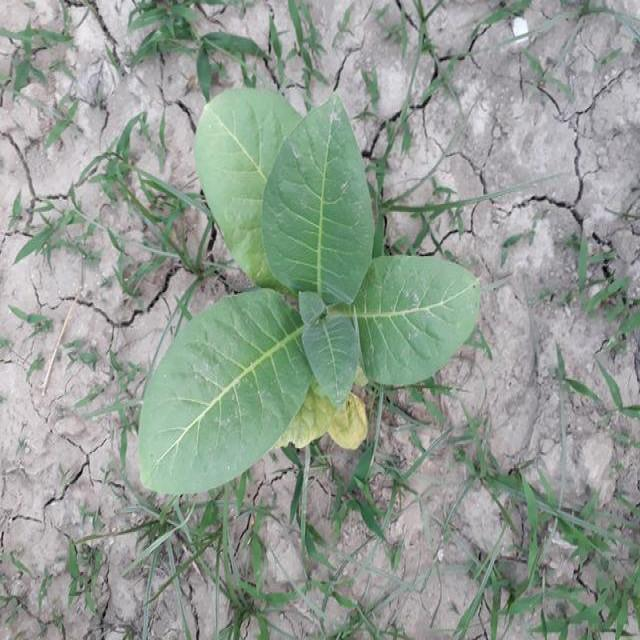crop: (135, 107, 478, 497)
